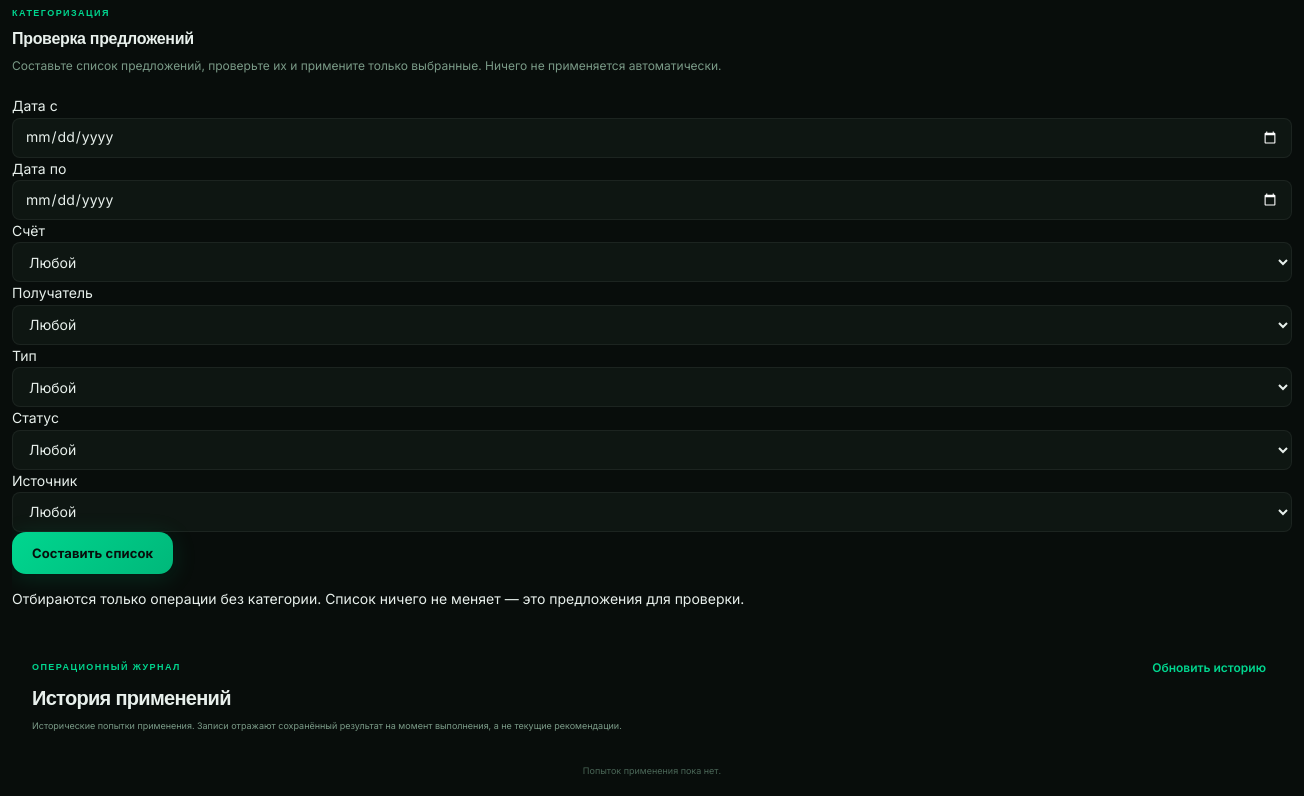
mixed statuses render and conflicts ask for a new preview
Submit the form
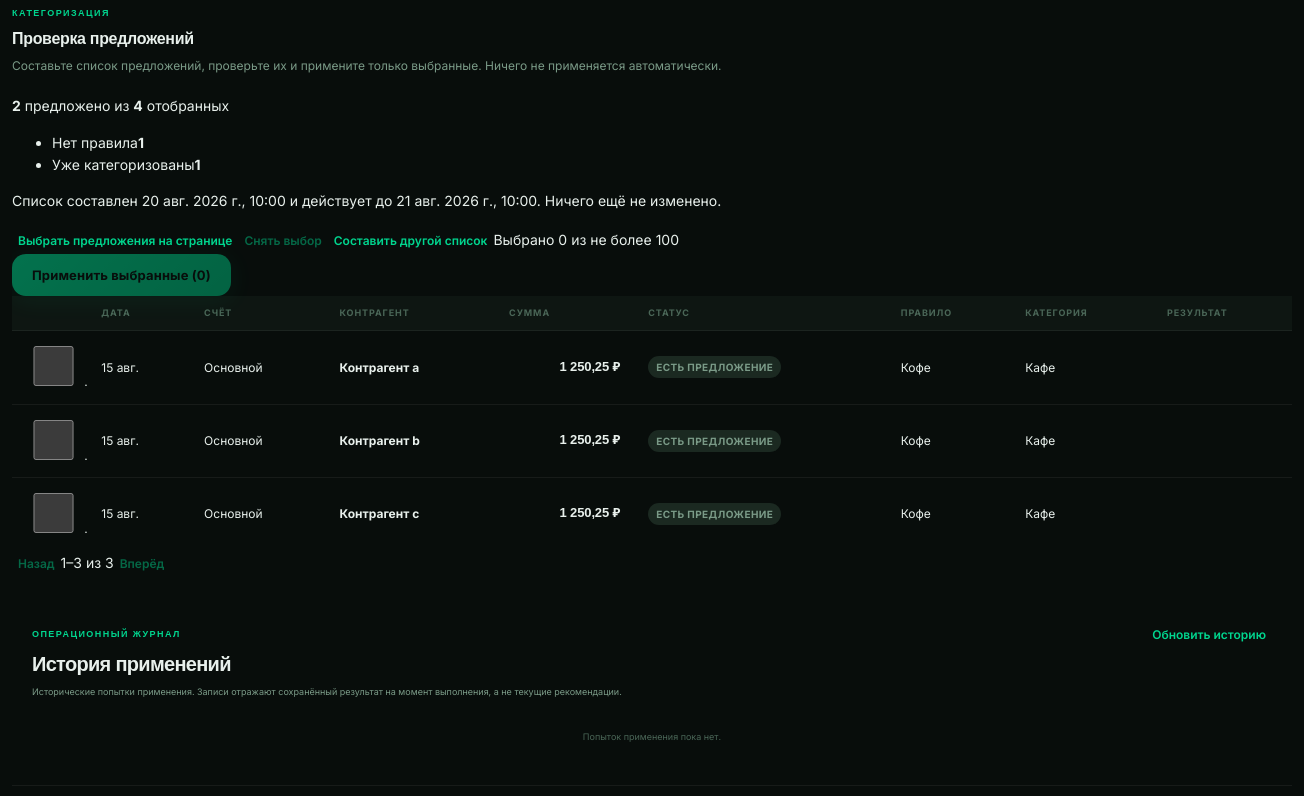
Click the button "Выбрать предложения на странице". click: (125, 240)
box: [12,227,238,254]
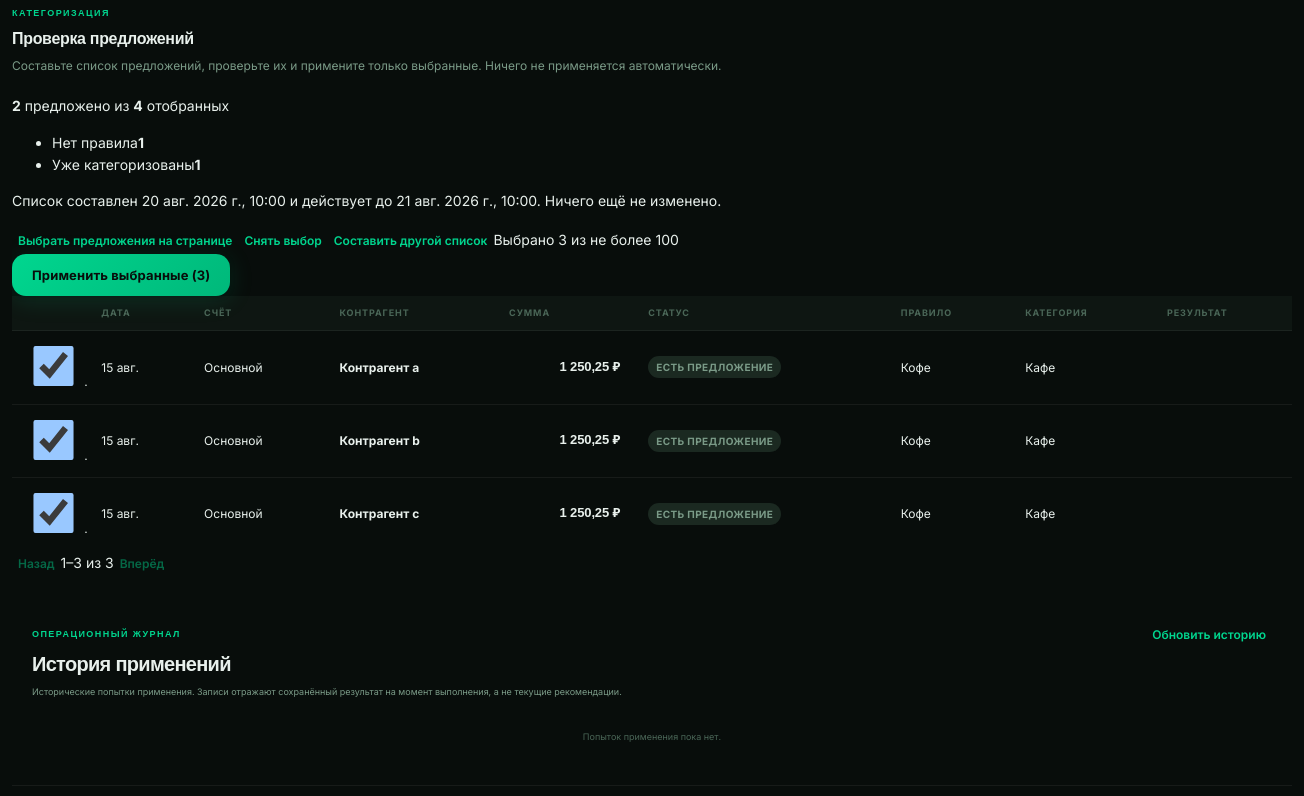
Click the button "Применить выбранные (3)". click: (121, 275)
box: [12,254,230,296]
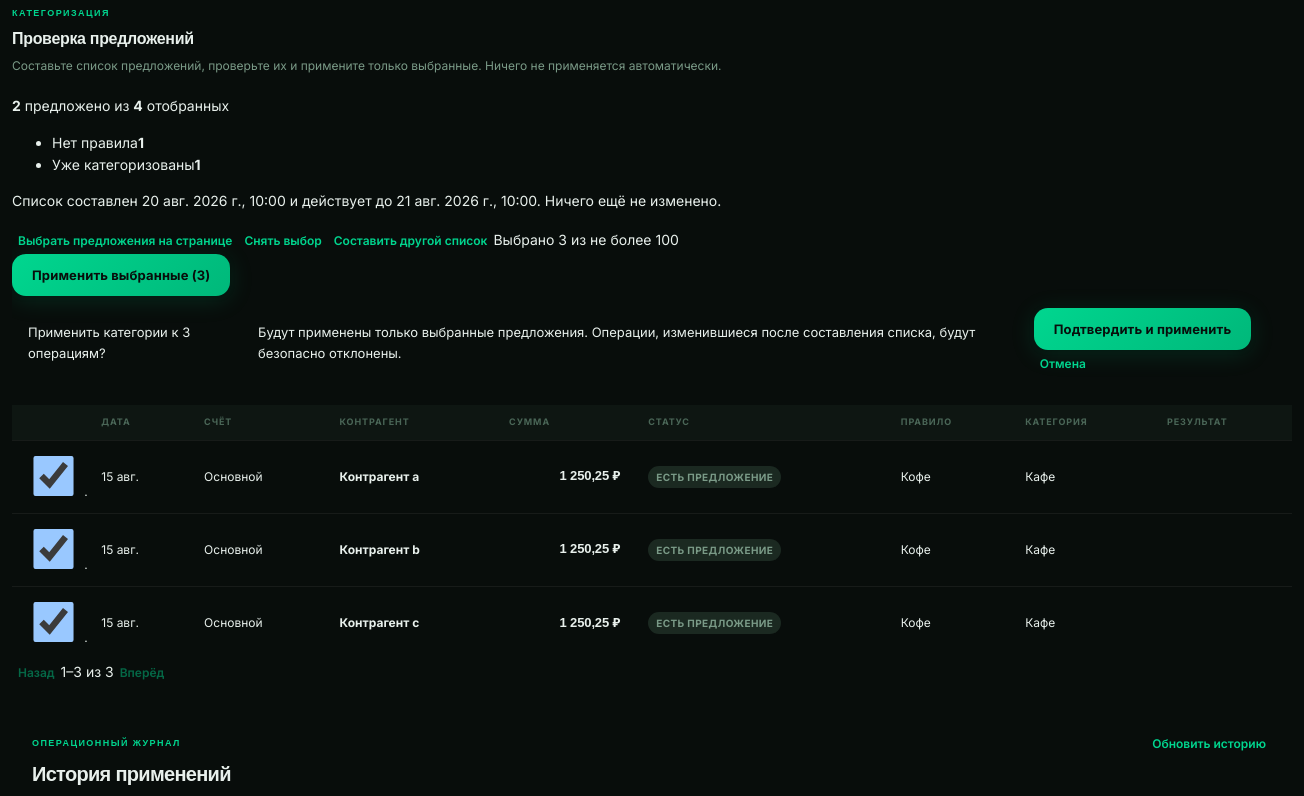
Click the button "Подтвердить и применить". click: (1143, 329)
box: [1034,308,1251,350]
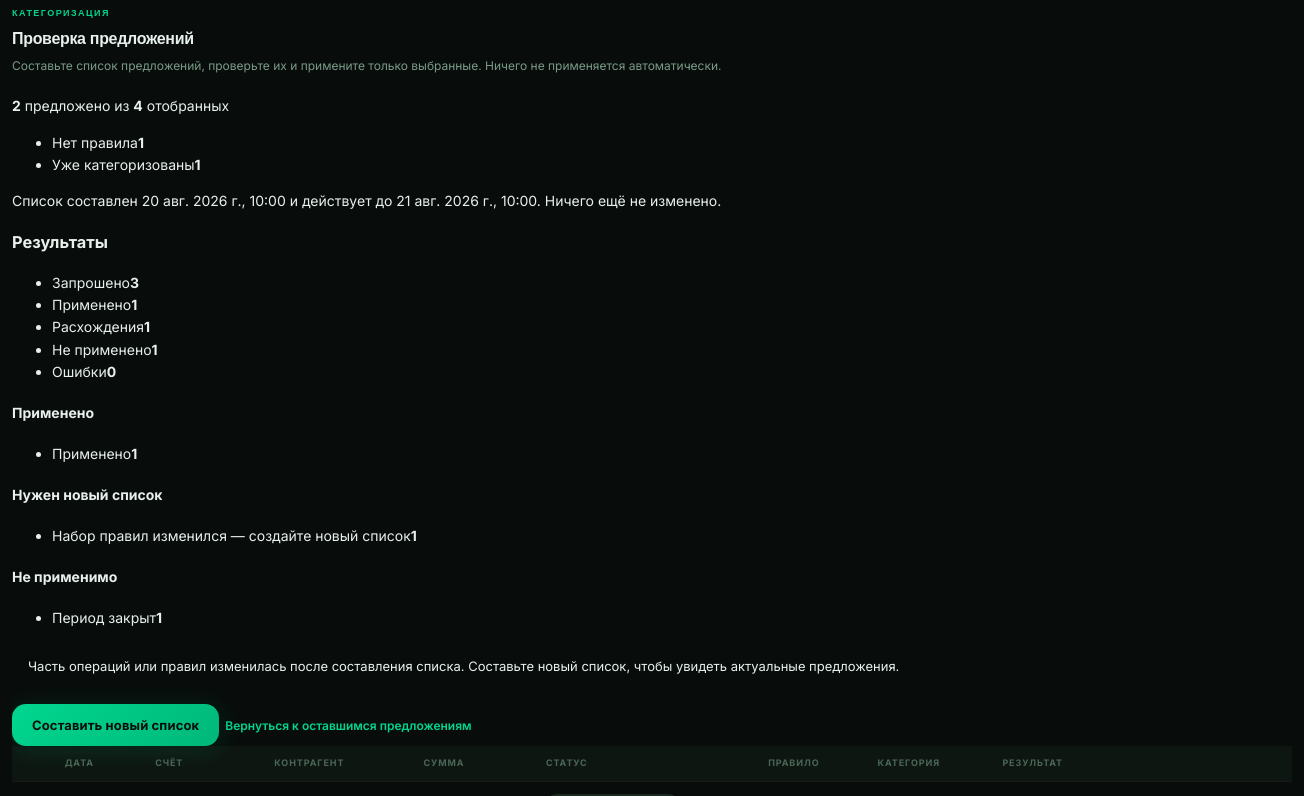
expect the text "Применено" is shown: met, box [52,296,131,313]
expect the text "Набор правил изменился" is shown: met, box [52,527,411,544]
expect the text "Период закрыт" is shown: met, box [52,609,156,626]
